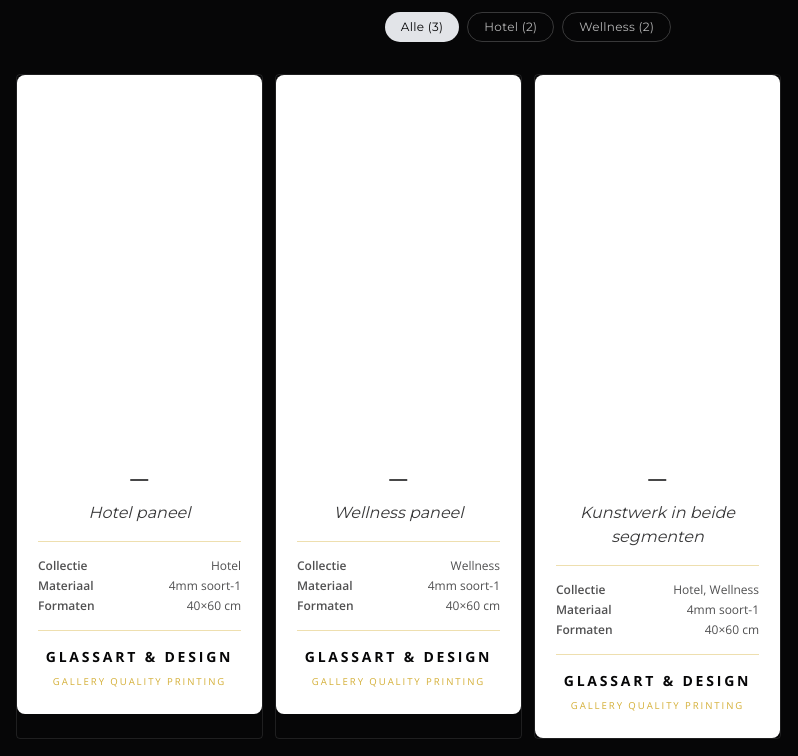
it: ProductsGrid › shows only that segment's kunstwerken after clicking its filter button, including one shared across segments
The width and height of the screenshot is (798, 756).
Click the button with test id "filter-seg-wellness" at (617, 27), box [562,12,671,42]
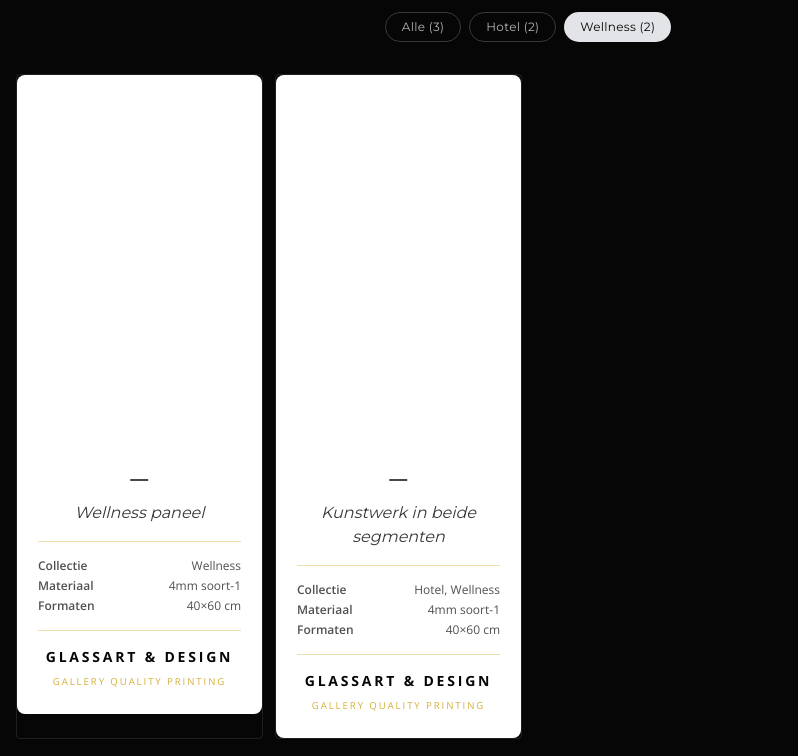
expect the number of buttons with test id "product-card" is 2: met, box [16,74,263,739]; [275,74,522,739]
